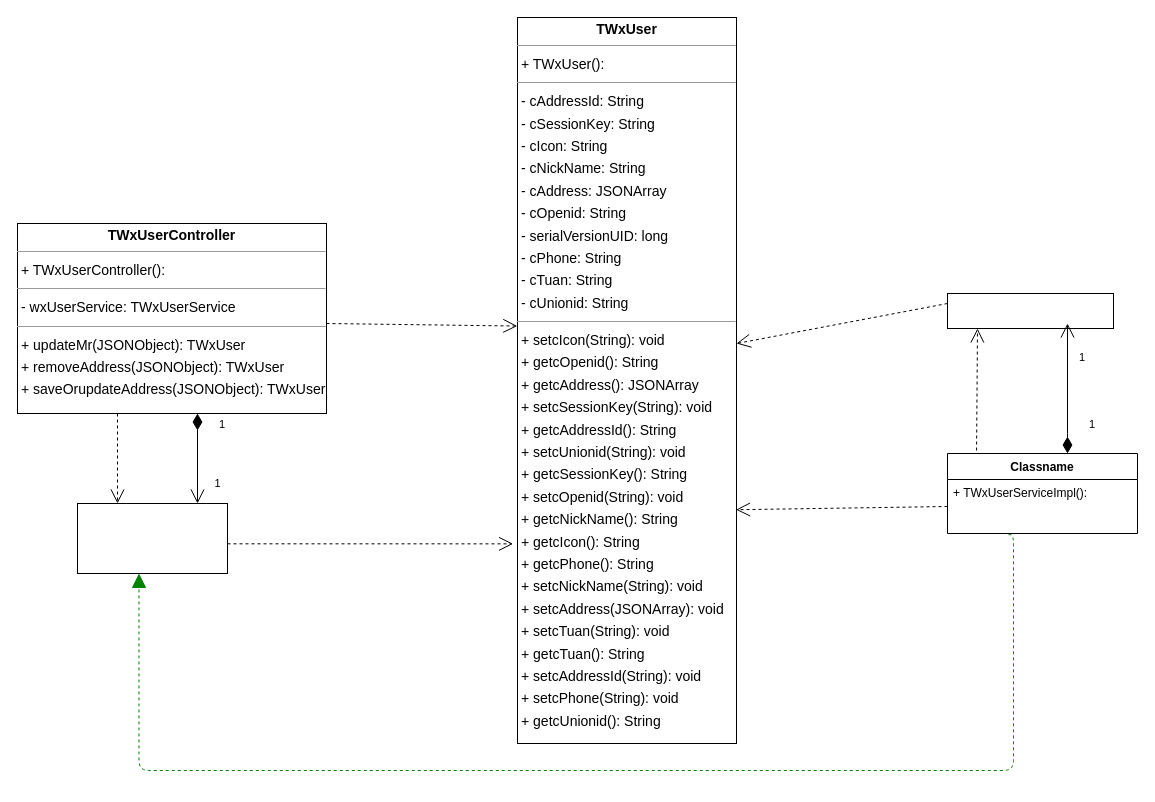
The diagram is 1155 pixels wide and 802 high, and some of its shapes have lost their labels. Here are the shapes that lost their labels. From the top down, the centre of each, then its label:
At (1030,310): "<<interface>> TWxUserMapper".
At (152,538): "«interface» TWxUserService".
